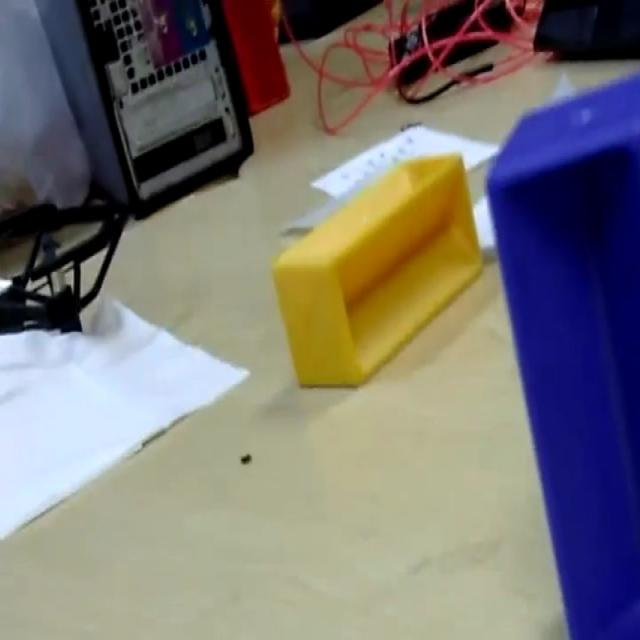blue_block: (484, 69, 638, 635)
yellow_block: (270, 149, 483, 388)
